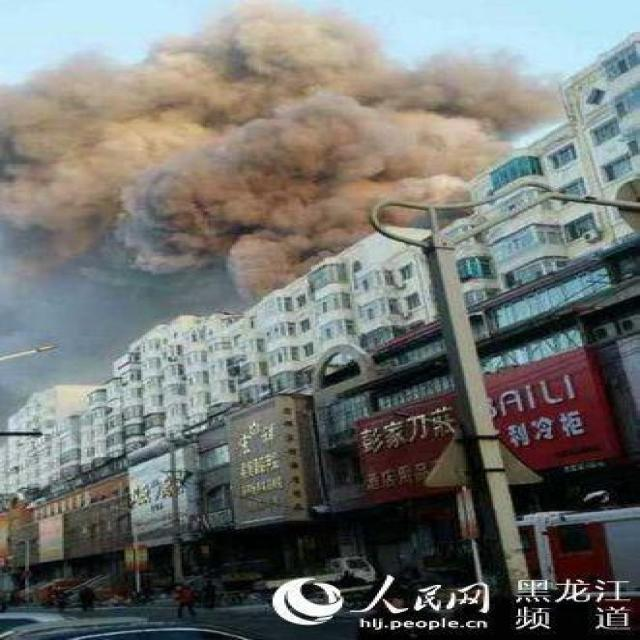Smoke: (0, 0, 578, 288), (0, 0, 242, 412)
